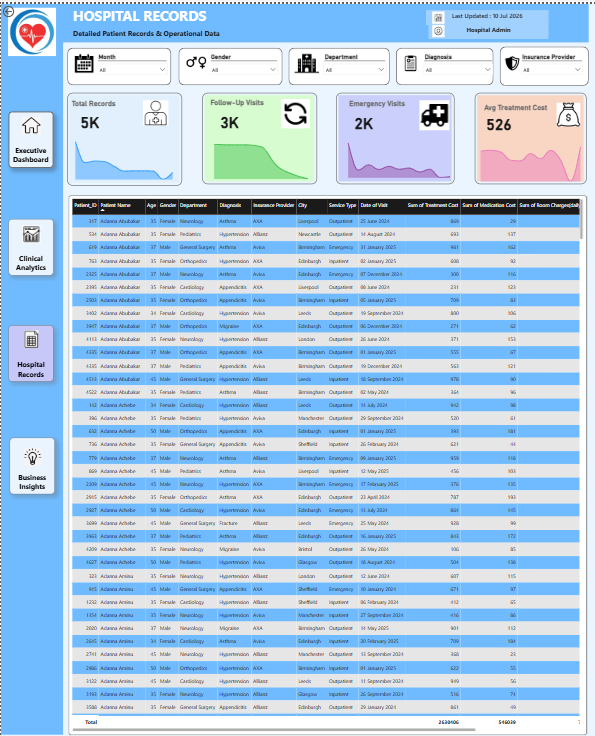

The dashboard page shown, as its layout file describes it:
{"tool":"powerbi","page":{"name":"Hospital Records","canvas":[1600,1950],"ordinal":2},"visuals":[{"type":"shape","box":[176,238,306,248],"z":0,"group":"g1"},{"type":"shape","box":[0,101.4,165.7,1848.6],"z":1000,"group":"g1"},{"type":"cardVisual","fields":{"Data":["DAX Measures.Total Records1"]},"box":[184,278,106,74],"z":2000,"group":"g1"},{"type":"shape","box":[0,0,1567.5,102.5],"z":3000,"group":"g1"},{"type":"textbox","box":[177.1,0,747.1,72.9],"z":4000,"group":"g1"},{"type":"textbox","box":[176.7,60,571.7,41.7],"z":5000,"group":"g1"},{"type":"image","box":[8.6,8.6,145.7,128.6],"z":6000,"group":"g1"},{"type":"actionButton","box":[20,285,120,150],"z":7000,"group":"g1"},{"type":"textbox","box":[184,250,146,41],"z":8000,"group":"g1"},{"type":"areaChart","fields":{"Category":["Date Table.Month Short"],"Y":["CountNonNull(visits.Patient_ID)"]},"box":[184,352,290,120],"z":9000,"group":"g1"},{"type":"image","box":[364,258,98,68],"z":11000,"group":"g1"},{"type":"shape","box":[535.3,238,306,244],"z":12000,"group":"g1"},{"type":"cardVisual","fields":{"Data":["DAX Measures.Last Refresh"]},"box":[1115,0,360,73.3],"z":12500,"group":"g1"},{"type":"actionButton","box":[20,571.7,120,150],"z":13000,"group":"g1"},{"type":"cardVisual","fields":{"Data":["DAX Measures.Follow-Up Visits"]},"box":[546,280,126,66],"z":14000,"group":"g1"},{"type":"image","box":[51.7,300,55,48.3],"z":15000,"group":"g1"},{"type":"textbox","box":[554,246,170,38],"z":16000,"group":"g1"},{"type":"image","box":[51.7,588.3,55,48.3],"z":17000,"group":"g1"},{"type":"areaChart","fields":{"Y":["DAX Measures.Follow-Up Visits"],"Category":["Date Table.Weekday"]},"box":[548,360,294,112],"z":18000,"group":"g1"},{"type":"actionButton","box":[21.7,1156.7,120,150],"z":19000,"group":"g1"},{"type":"image","box":[724,254,124,78],"z":20000,"group":"g1"},{"type":"actionButton","box":[20,855,120,150],"z":21000,"group":"g1"},{"type":"shape","box":[894.7,238,316,244],"z":22000,"group":"g1"},{"type":"image","box":[56.7,1183.3,55,48.3],"z":23000,"group":"g1"},{"type":"cardVisual","fields":{"Data":["DAX Measures.Emergency Visits"]},"box":[904,284,128,66],"z":24000,"group":"g1"},{"type":"image","box":[53.3,870,55,48.3],"z":25000,"group":"g1"},{"type":"textbox","box":[922,250,164,44],"z":26000,"group":"g1"},{"type":"textbox","box":[1138.3,53.3,320,40],"z":27000,"group":"g1"},{"type":"areaChart","fields":{"Y":["DAX Measures.Emergency Visits"],"Category":["Date Table.Month Short"]},"box":[910,356,304,112],"z":28000,"group":"g1"},{"type":"image","box":[1150,20,32.5,32.5],"z":29000,"group":"g1"},{"type":"image","box":[1096,256,118,80],"z":30000,"group":"g1"},{"type":"image","box":[1150,52.5,32.5,37.5],"z":31000,"group":"g1"},{"type":"shape","box":[1264,238,298,244],"z":32000,"group":"g1"},{"type":"cardVisual","fields":{"Data":["DAX Measures.Avg Treatment Cost"]},"box":[1264,282,128,74],"z":33000,"group":"g1"},{"type":"textbox","box":[1282,260,254,42],"z":34000,"group":"g1"},{"type":"areaChart","fields":{"Category":["Date Table.Month Short"],"Y":["DAX Measures.Avg Treatment Cost"]},"box":[1264,366,298,112],"z":35000,"group":"g1"},{"type":"image","box":[1460,263.3,106.7,63.3],"z":36000,"group":"g1"},{"type":"shape","box":[177.5,117.5,277.5,100],"z":37000,"group":"g1"},{"type":"slicer","fields":{"Values":["Date Table.Month"]},"box":[247.5,125,207.5,92.5],"z":38000,"group":"g1"},{"type":"image","box":[185,122.5,70,70],"z":39000,"group":"g1"},{"type":"shape","box":[471.9,117.5,277.5,100],"z":40000,"group":"g1"},{"type":"slicer","fields":{"Values":["providers.Gender"]},"box":[547.5,125,202.5,92.5],"z":41000,"group":"g1"},{"type":"image","box":[482.5,120,75,70],"z":42000,"group":"g1"},{"type":"shape","box":[766.2,117.5,270,100],"z":43000,"group":"g1"},{"type":"slicer","fields":{"Values":["departments.Department"]},"box":[850,125,187.5,92.5],"z":44000,"group":"g1"},{"type":"image","box":[777.5,122.5,77.5,70],"z":45000,"group":"g1"},{"type":"shape","box":[1053.1,117.5,260,100],"z":46000,"group":"g1"},{"type":"slicer","fields":{"Values":["diagnoses.Diagnosis"]},"box":[1115,125,205,92.5],"z":47000,"group":"g1"},{"type":"image","box":[1060,122.5,65,70],"z":48000,"group":"g1"},{"type":"shape","box":[1330,112.5,237.5,105],"z":49000,"group":"g1"},{"type":"slicer","fields":{"Values":["insurance.Insurance Provider"]},"box":[1377.5,125,185,80],"z":50000,"group":"g1"},{"type":"image","box":[1340,122.5,47.5,70],"z":51000,"group":"g1"},{"type":"tableEx","fields":{"Values":["visits.Patient_ID","patients.Patient Name","providers.Age","providers.Gender","departments.Department","diagnoses.Diagnosis","insurance.Insurance Provider","cities.City","visits.Service Type","visits.Date of Visit","Sum(visits.Treatment Cost)","Sum(visits.Medication Cost)"]},"box":[180,510,1382.5,1440],"z":52000,"group":"g1"},{"type":"actionButton","box":[0,0,100,40],"z":53000,"group":"g1"},{"type":"group","id":"g1","title":"Group 1","box":[0,0,1567.5,1950],"z":53001}]}

Visuals, with their boxes on the page's 1600x1950 design canvas (x1, y1, x2, y2). These are canvas units, not pixel positions in the 595x736 screenshot, which may show the page scaled, cropped or inside an application window:
shape: region(176, 238, 482, 486)
shape: region(0, 101, 166, 1950)
cardVisual - DAX Measures.Total Records1: region(184, 278, 290, 352)
shape: region(0, 0, 1568, 102)
textbox: region(177, 0, 924, 73)
textbox: region(177, 60, 748, 102)
image: region(9, 9, 154, 137)
actionButton: region(20, 285, 140, 435)
textbox: region(184, 250, 330, 291)
areaChart - Date Table.Month Short x CountNonNull(visits.Patient_ID): region(184, 352, 474, 472)
image: region(364, 258, 462, 326)
shape: region(535, 238, 841, 482)
cardVisual - DAX Measures.Last Refresh: region(1115, 0, 1475, 73)
actionButton: region(20, 572, 140, 722)
cardVisual - DAX Measures.Follow-Up Visits: region(546, 280, 672, 346)
image: region(52, 300, 107, 348)
textbox: region(554, 246, 724, 284)
image: region(52, 588, 107, 637)
areaChart - DAX Measures.Follow-Up Visits x Date Table.Weekday: region(548, 360, 842, 472)
actionButton: region(22, 1157, 142, 1307)
image: region(724, 254, 848, 332)
actionButton: region(20, 855, 140, 1005)
shape: region(895, 238, 1211, 482)
image: region(57, 1183, 112, 1232)
cardVisual - DAX Measures.Emergency Visits: region(904, 284, 1032, 350)
image: region(53, 870, 108, 918)
textbox: region(922, 250, 1086, 294)
textbox: region(1138, 53, 1458, 93)
areaChart - DAX Measures.Emergency Visits x Date Table.Month Short: region(910, 356, 1214, 468)
image: region(1150, 20, 1182, 52)
image: region(1096, 256, 1214, 336)
image: region(1150, 52, 1182, 90)
shape: region(1264, 238, 1562, 482)
cardVisual - DAX Measures.Avg Treatment Cost: region(1264, 282, 1392, 356)
textbox: region(1282, 260, 1536, 302)
areaChart - Date Table.Month Short x DAX Measures.Avg Treatment Cost: region(1264, 366, 1562, 478)
image: region(1460, 263, 1567, 327)
shape: region(178, 118, 455, 218)
slicer - Date Table.Month: region(248, 125, 455, 218)
image: region(185, 122, 255, 192)
shape: region(472, 118, 749, 218)
slicer - providers.Gender: region(548, 125, 750, 218)
image: region(482, 120, 558, 190)
shape: region(766, 118, 1036, 218)
slicer - departments.Department: region(850, 125, 1038, 218)
image: region(778, 122, 855, 192)
shape: region(1053, 118, 1313, 218)
slicer - diagnoses.Diagnosis: region(1115, 125, 1320, 218)
image: region(1060, 122, 1125, 192)
shape: region(1330, 112, 1568, 218)
slicer - insurance.Insurance Provider: region(1378, 125, 1562, 205)
image: region(1340, 122, 1388, 192)
tableEx - visits.Patient_ID x patients.Patient Name: region(180, 510, 1562, 1950)
actionButton: region(0, 0, 100, 40)
"Group 1" group: region(0, 0, 1568, 1950)
